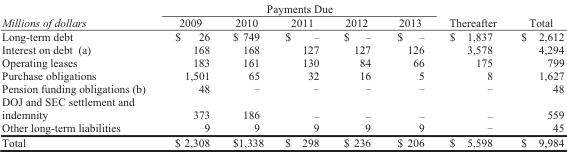table: (1, 1, 563, 149)
table column: (1, 1, 159, 149), (436, 1, 508, 149), (159, 1, 220, 149), (273, 1, 330, 149), (508, 1, 563, 149), (220, 1, 273, 149), (330, 1, 383, 149), (383, 1, 436, 149)
table column header: (1, 1, 563, 28)
table row: (1, 94, 563, 120), (1, 134, 563, 149), (1, 1, 563, 15), (1, 28, 563, 42), (1, 120, 563, 134), (1, 15, 563, 28), (1, 42, 563, 55), (1, 55, 563, 68), (1, 68, 563, 81), (1, 81, 563, 94)
table spanning cell: (1, 1, 159, 28), (159, 1, 436, 15), (436, 1, 508, 28), (508, 1, 563, 28)
